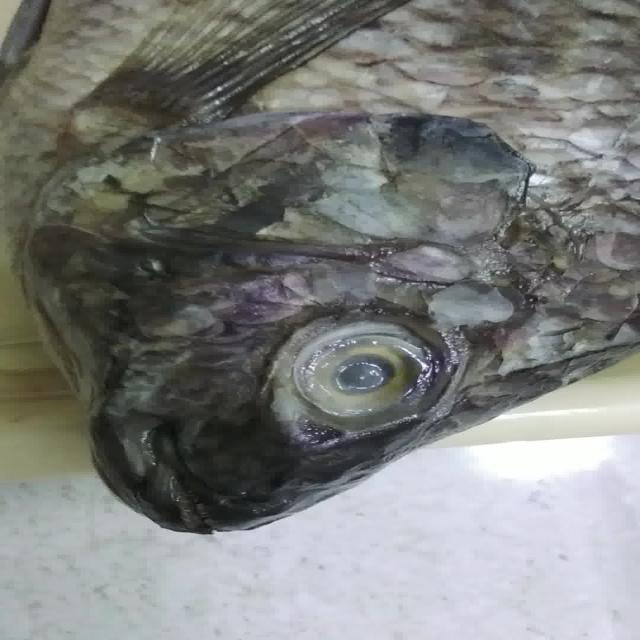Non-Fresh: (269, 312, 462, 432)
